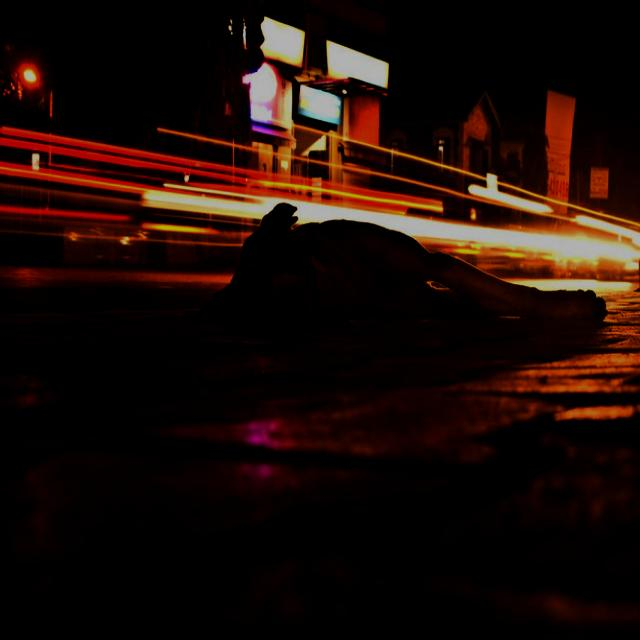Dog: (215, 197, 620, 460)
